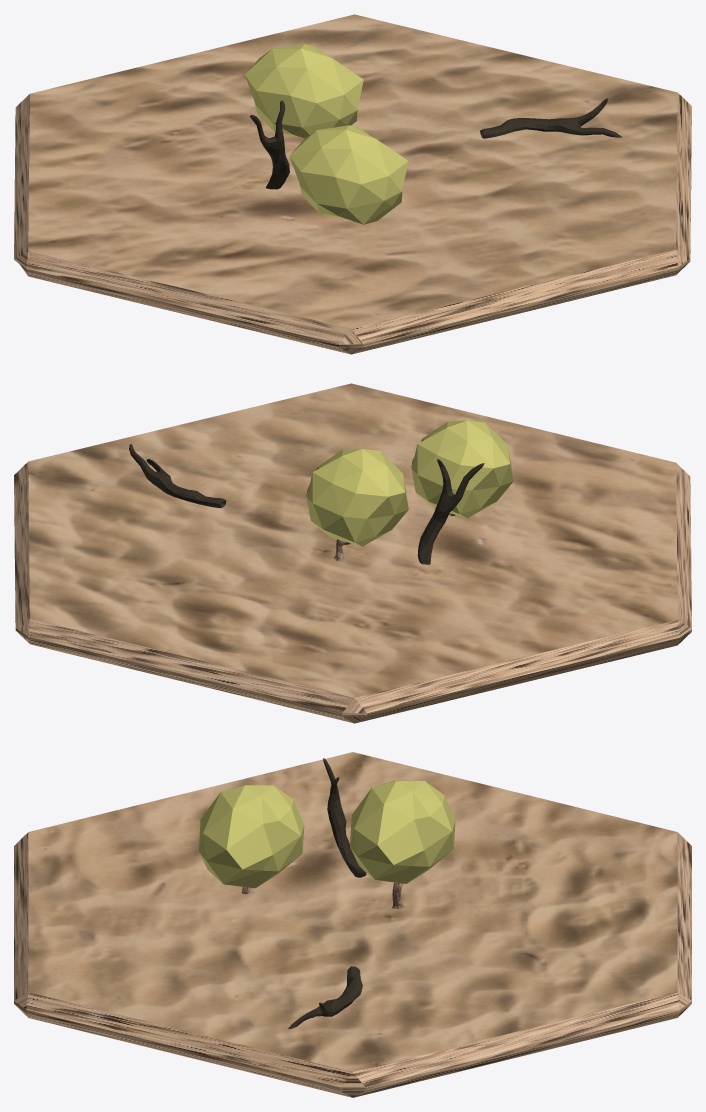
Rendered from hexagonWueste.fbx.
3 views of the same model, one above another, from view 1: azimuth 30°, elevation 25°; view 2: azimuth 150°, elevation 25°; view 3: azimuth 270°, elevation 25° (orthographic).
Parts seen in each view (by area): view 1: Cylinder.001; view 2: Cylinder.001; view 3: Cylinder.001.
Part boxes in pixels (bbox=[...]): Cylinder.001: bbox=[14, 14, 691, 354]; Cylinder.001: bbox=[14, 383, 691, 723]; Cylinder.001: bbox=[14, 752, 691, 1097].
Bounding box in the file's own units: 115 × 23.16 × 100.
Materials: 7 (7 with a texture image).
